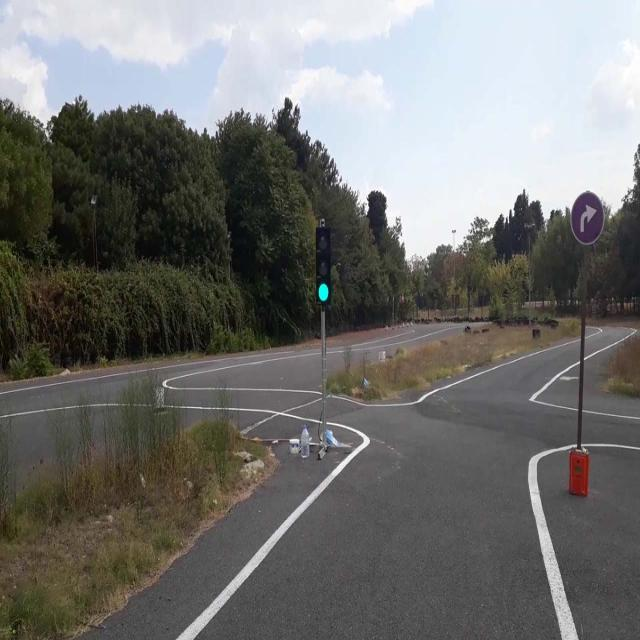sag: (572, 190, 604, 243)
yesil: (316, 227, 329, 305)
